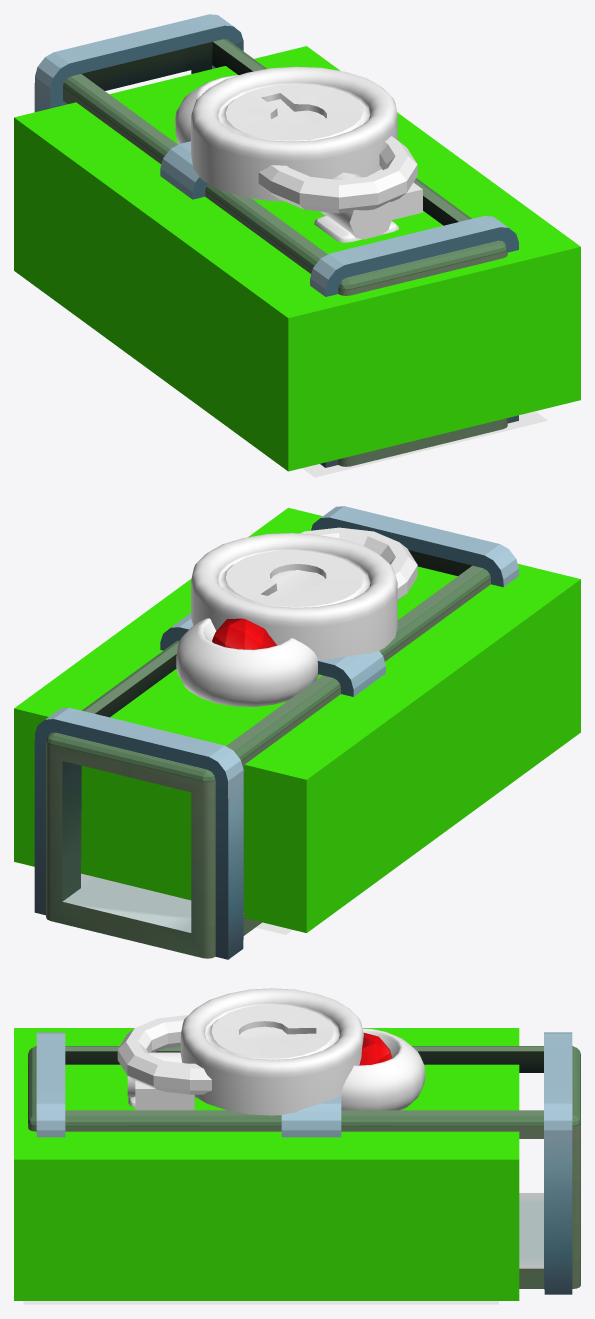
File: 1 Van_SixSeater.fbx
3 renders of one model, top to bottom at view 1: azimuth 30°, elevation 25°; view 2: azimuth 150°, elevation 25°; view 3: azimuth 270°, elevation 25°, orthographic. The views are drawn at different scales.
Parts seen in each view (by area): view 1: ClickBox__1_, block_lock__1_, lock_model, Lock_001, Key, sd, Van_roof__Removable__color; view 2: ClickBox__1_, block_lock__1_, lock_model, Key, Lock_001; view 3: ClickBox__1_, block_lock__1_, lock_model, Key, Lock_001, sd.
Boxes of the visible parts, x1,y1,x2,y2 form: ClickBox__1_: (14,46,580,471); block_lock__1_: (34,14,518,467); lock_model: (191,66,397,201); Lock_001: (258,136,417,213); Key: (175,75,422,239); sd: (302,411,547,477); Van_roof__Removable__color: (314,215,398,242); ClickBox__1_: (14,507,580,932); block_lock__1_: (34,506,518,959); lock_model: (191,533,397,660); Key: (176,618,318,706); Lock_001: (300,527,417,600); ClickBox__1_: (14,1028,519,1300); block_lock__1_: (28,1032,580,1294); lock_model: (180,988,363,1115); Key: (127,1028,425,1110); Lock_001: (117,1015,211,1094); sd: (23,1301,498,1304).
Size of the model in its own units: 351 by 281 by 639.
7 materials, 3 textured.
